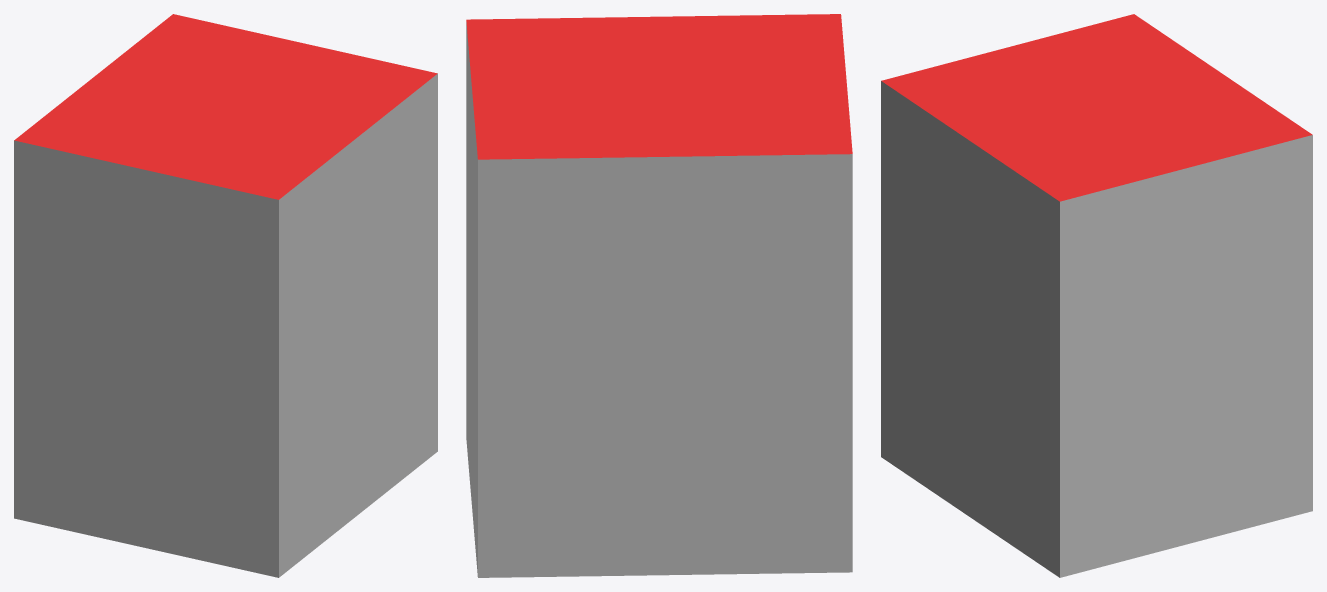
The picture shows the model from 3 angles, left to right: view 1: azimuth 30°, elevation 25°; view 2: azimuth 150°, elevation 25°; view 3: azimuth 270°, elevation 25°; orthographic projection. The views are drawn at different scales.
Size of the model in its own units: 17.12 by 16.64 by 16.
